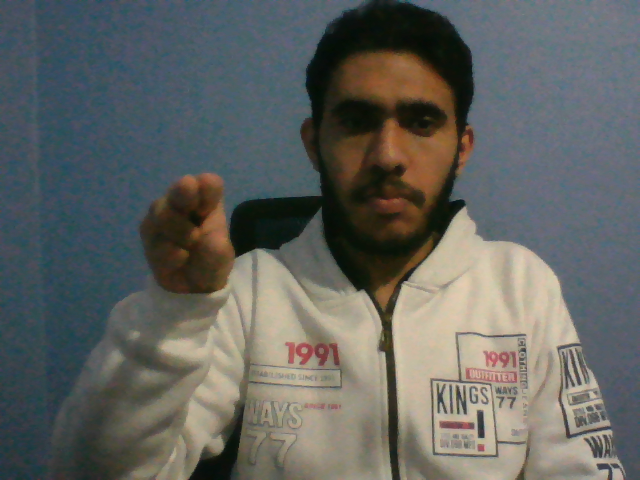no: (141, 167, 240, 302)
